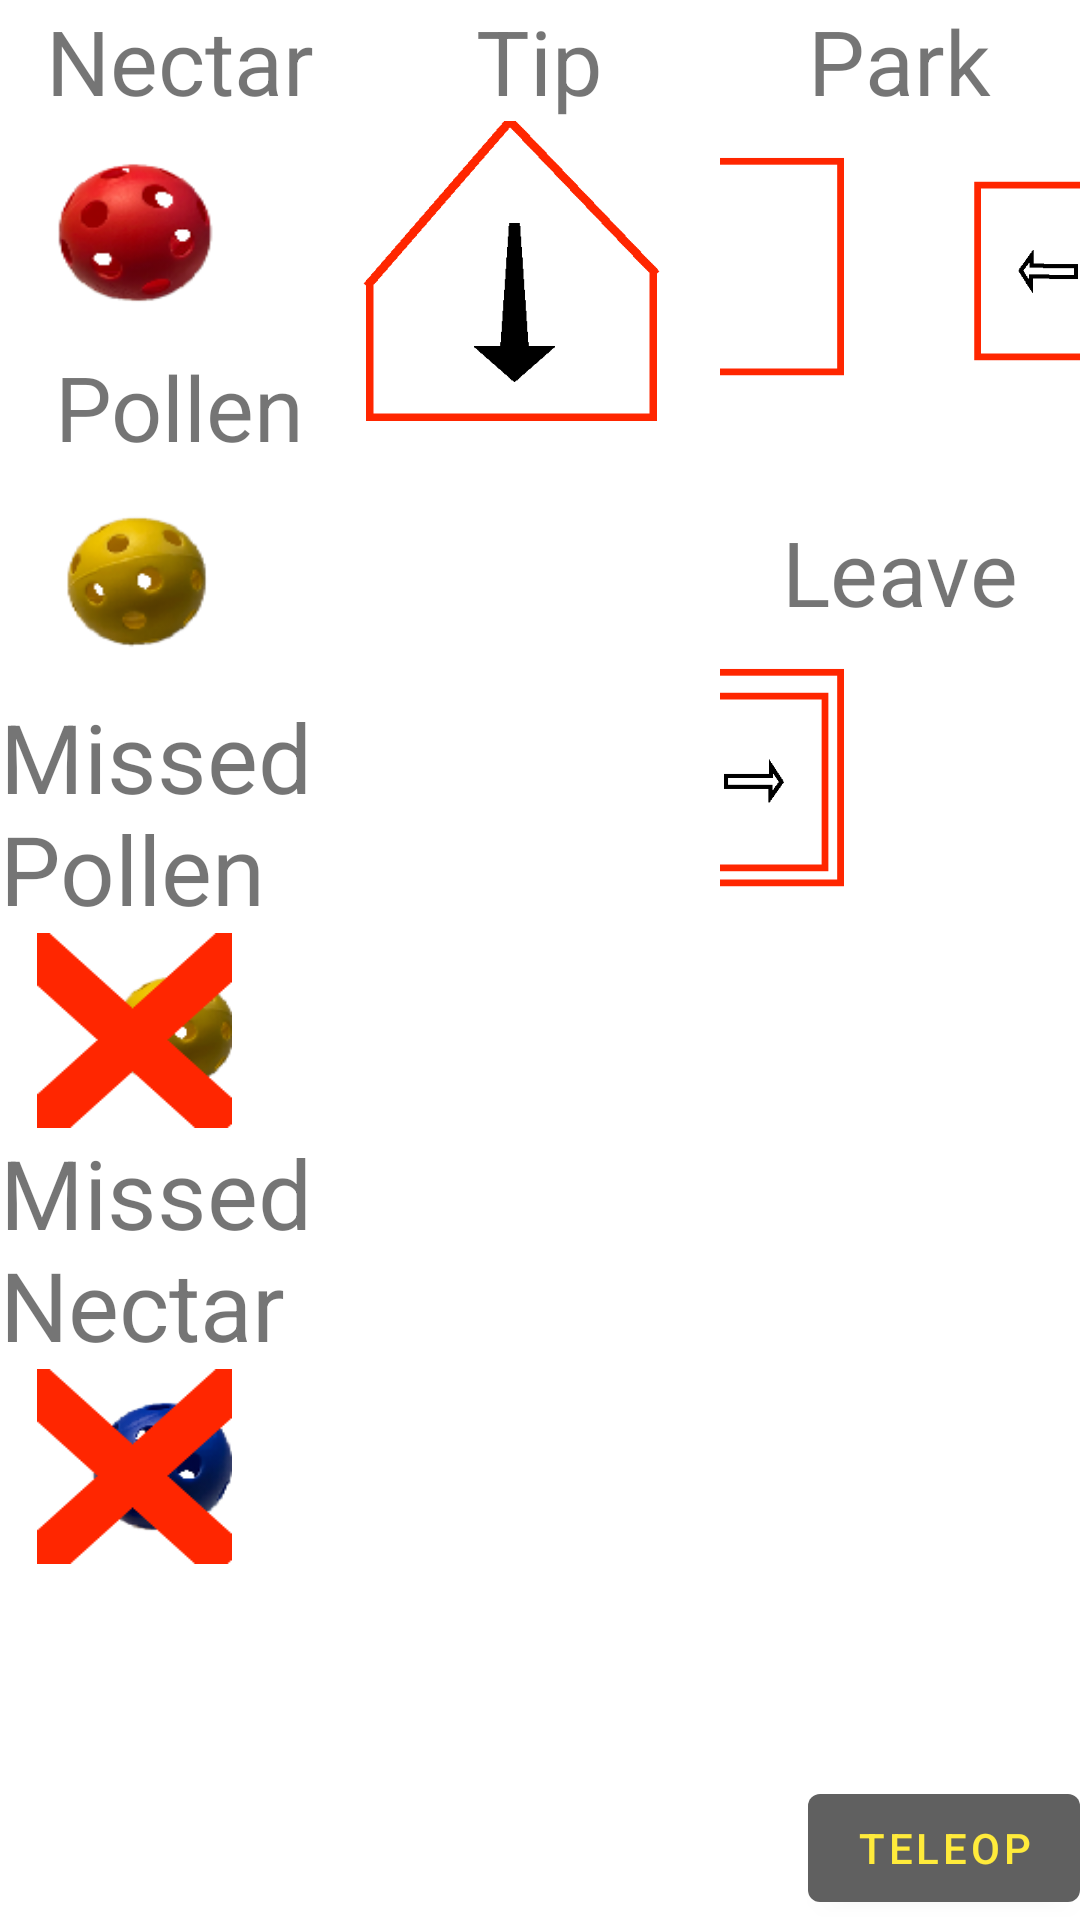

Icon click points for this 1080px×1920px phone screenshot, format [x,y]:
Hive: [511,271]
